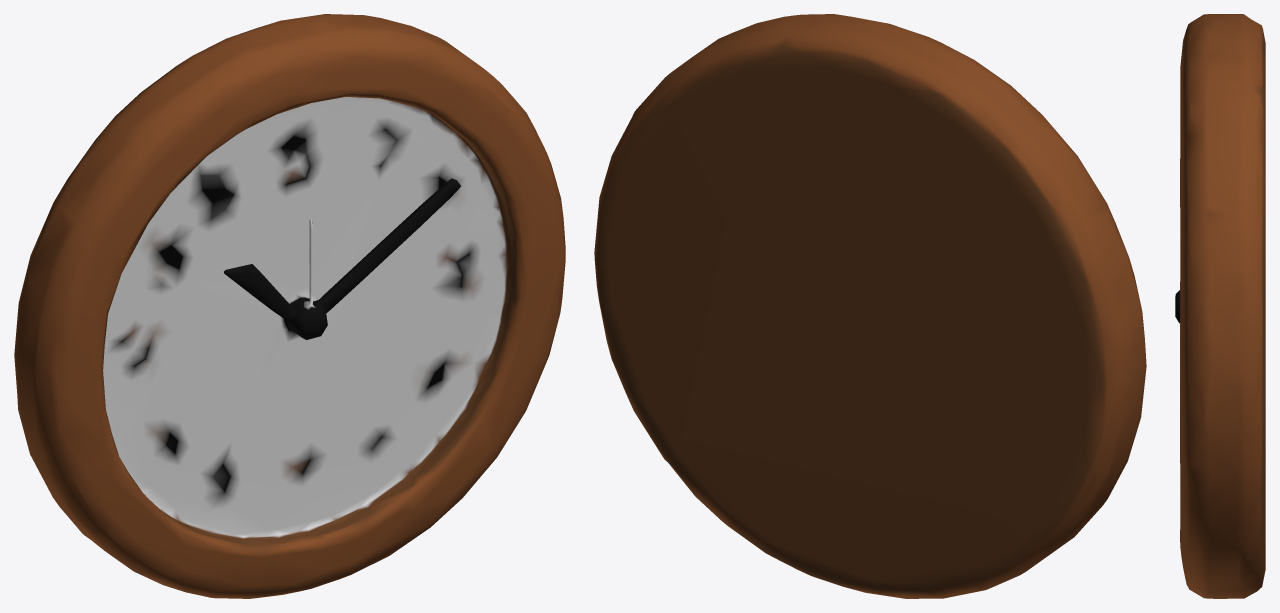
The model's file is gen3d-wall-clock-lod0.glb.
3 views of the same model, side by side, from view 1: azimuth 30°, elevation 25°; view 2: azimuth 150°, elevation 25°; view 3: azimuth 270°, elevation 25° (orthographic). The views are drawn at different scales.
Visible parts, largest first — view 1: part_0; view 2: part_0; view 3: part_0.
Part boxes in pixels (<box>): part_0: <box>14,14,565,598</box>; part_0: <box>594,14,1146,598</box>; part_0: <box>1175,14,1265,598</box>.
Size of the model in its own units: 0.9997 by 1 by 0.1546.
